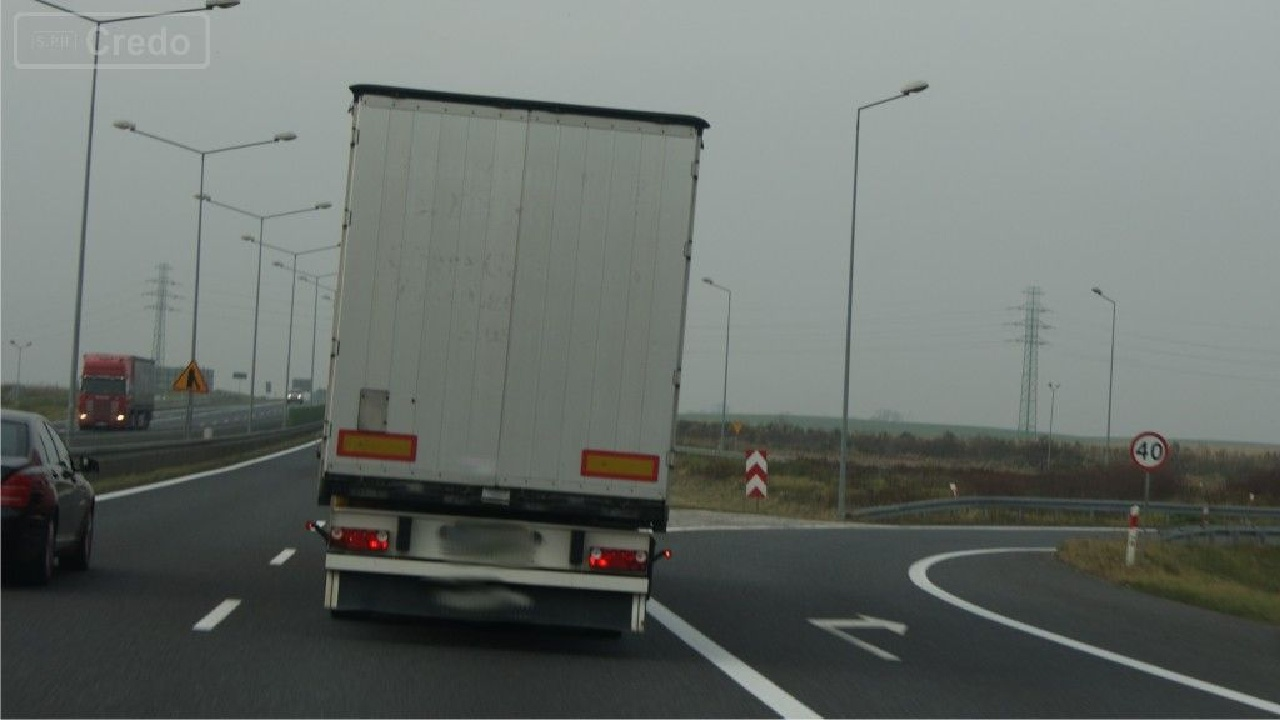A6_D: (173, 359, 209, 394)
B33_40: (1129, 430, 1170, 472)
